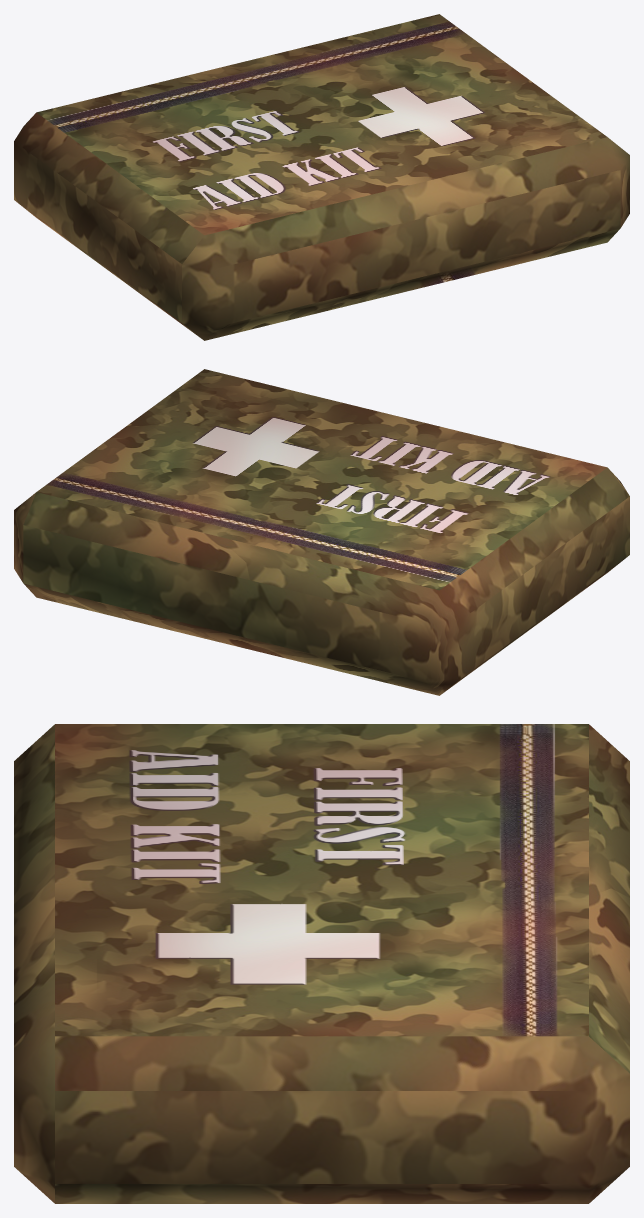
The model's file is FirstAidKit.FBX.
The picture shows the model from 3 angles, top to bottom: view 1: azimuth 30°, elevation 25°; view 2: azimuth 150°, elevation 25°; view 3: azimuth 270°, elevation 25°; orthographic projection. The views are drawn at different scales.
Visible parts, largest first — view 1: ChamferBox001; view 2: ChamferBox001; view 3: ChamferBox001.
Boxes of the visible parts, x1=… form: ChamferBox001: x1=14, y1=14, x2=629, y2=340; ChamferBox001: x1=14, y1=369, x2=629, y2=695; ChamferBox001: x1=14, y1=724, x2=629, y2=1203.
Size of the model in its own units: 40 by 9 by 30.
1 material, 1 textured.
